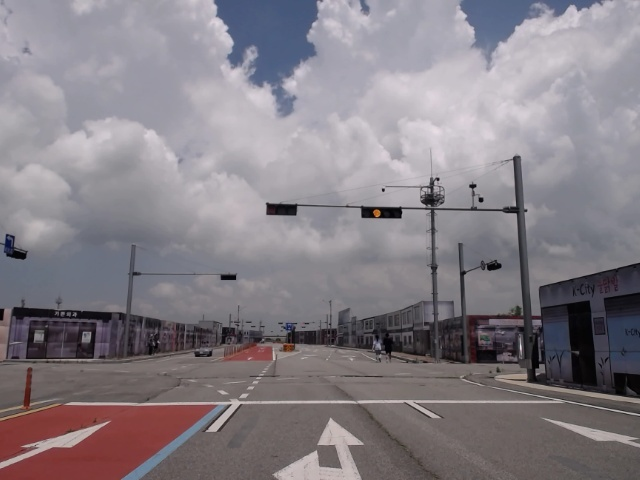orange_4: (360, 206, 404, 220)
